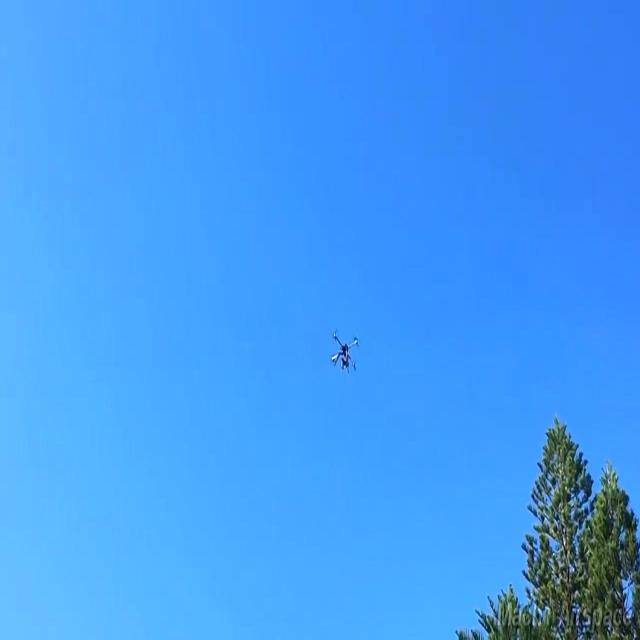drone: (329, 331, 361, 378)
